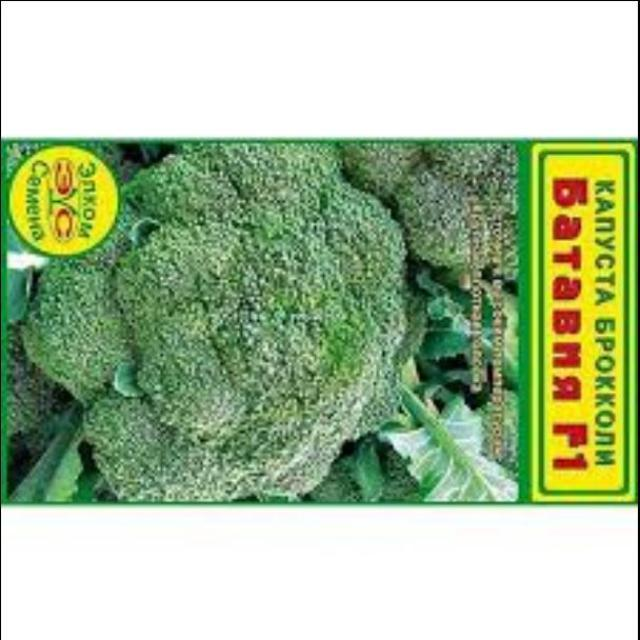Broccoli: (2, 142, 432, 498), (349, 114, 533, 276)
